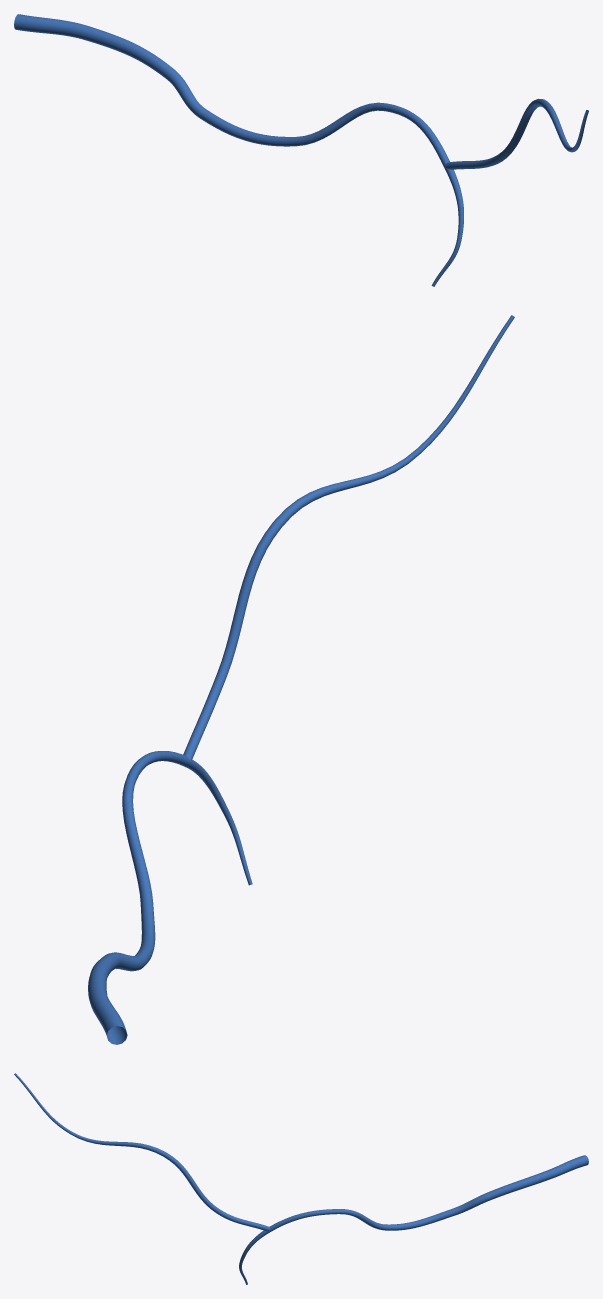
3 views of the same model, one above another, from view 1: azimuth 30°, elevation 25°; view 2: azimuth 150°, elevation 25°; view 3: azimuth 270°, elevation 25° (orthographic). The views are drawn at different scales.
Visible parts, largest first — view 1: 左侧颞浅静脉; view 2: 左侧颞浅静脉; view 3: 左侧颞浅静脉.
Part boxes in pixels (left/top/right/bottom): 左侧颞浅静脉: left=14, top=14, right=588, bottom=286; 左侧颞浅静脉: left=88, top=315, right=514, bottom=1044; 左侧颞浅静脉: left=14, top=1073, right=588, bottom=1284.
Bounding box in the file's own units: 0.0452 × 0.0632 × 0.1613.
